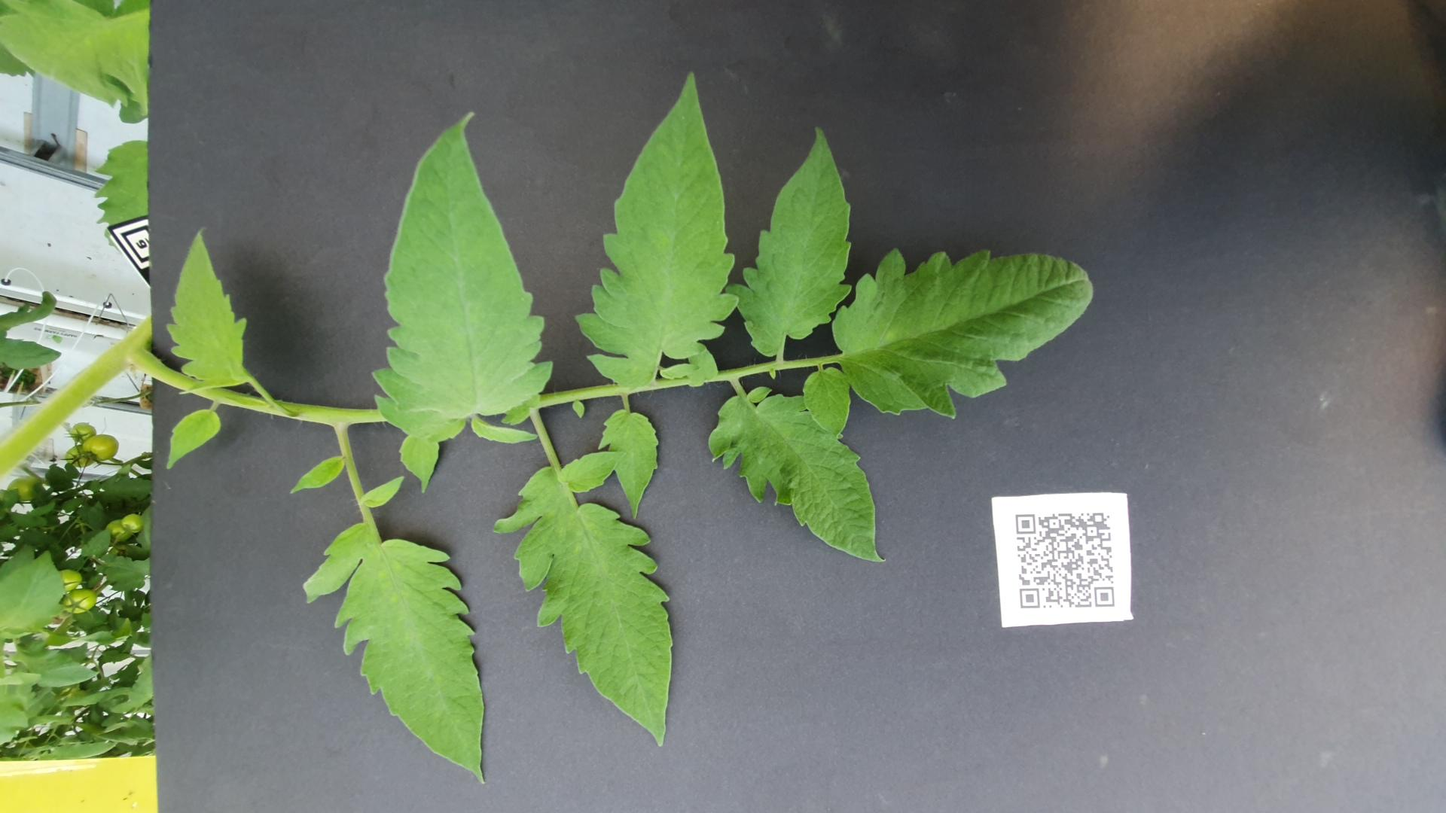Healthy: (700, 196, 1247, 310), (118, 276, 643, 380), (752, 322, 1321, 417), (55, 160, 517, 274), (698, 467, 1005, 617), (809, 408, 1228, 480), (447, 397, 745, 498), (743, 89, 1045, 143), (517, 337, 718, 373), (668, 451, 796, 480)
